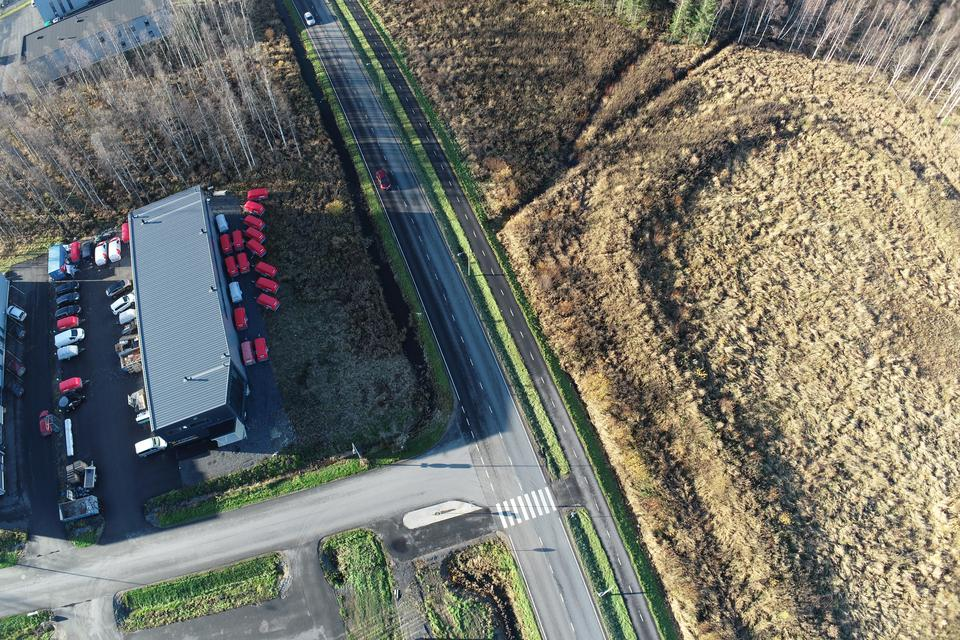intersection: (364, 408, 644, 569)
